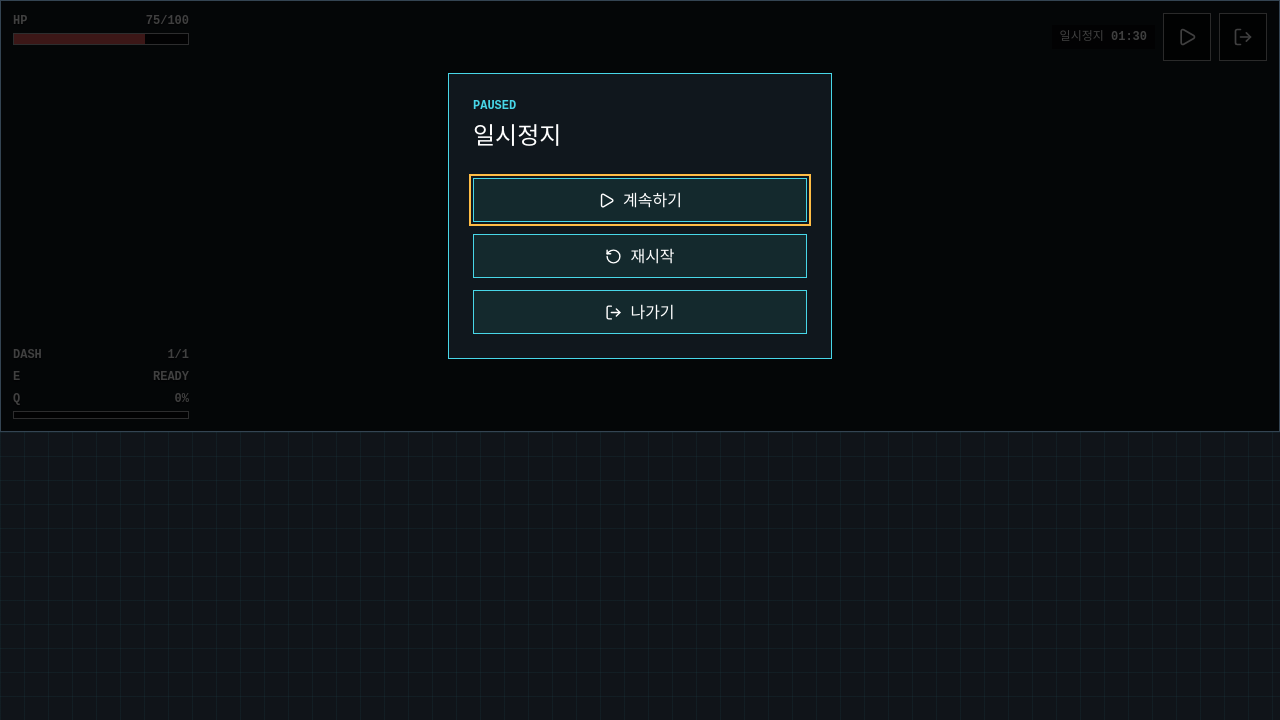
it: DexSurvivorGame › imports a schema-valid account snapshot and starts a three-second resume countdown
Click the button "계속하기" at (640, 200), box [473, 178, 807, 222]
Wait 50 ms
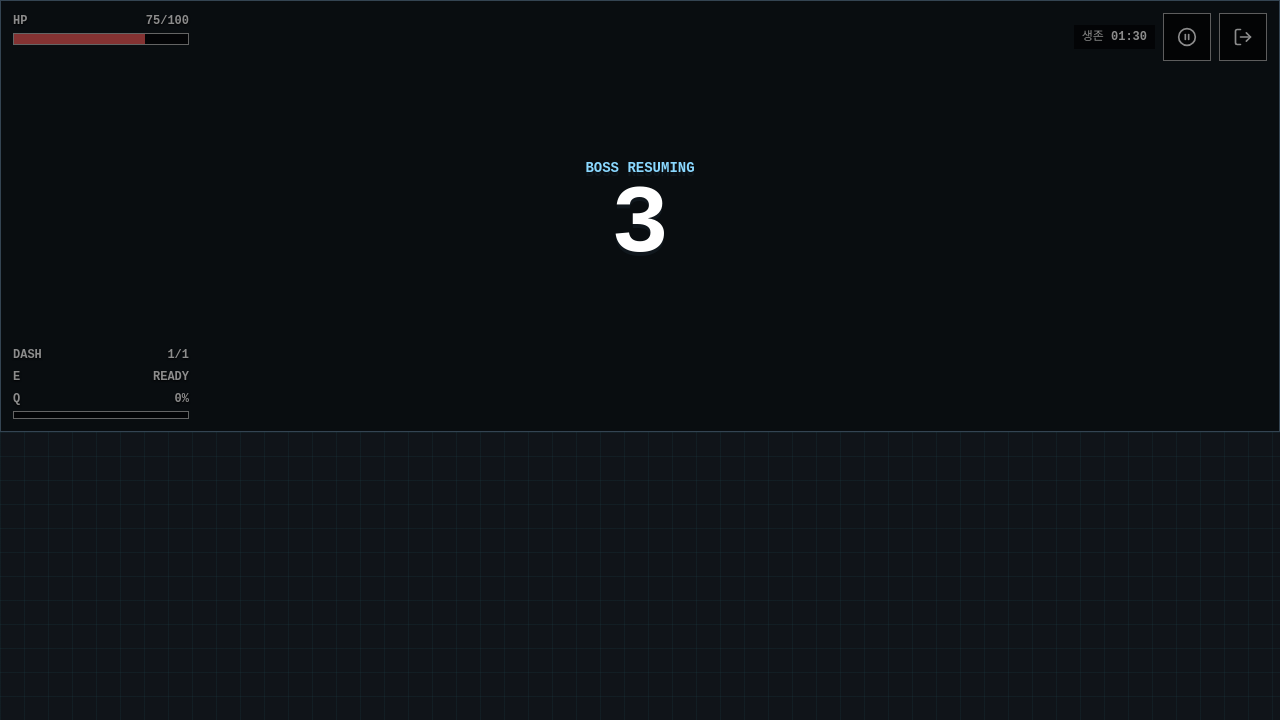
expect the text "3" is shown: met, box [611, 171, 669, 280]
